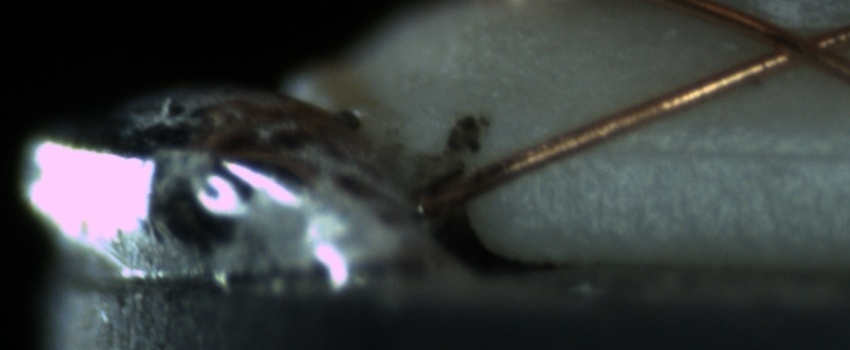CL: (743, 12, 842, 79)
DL: (571, 119, 843, 186)
